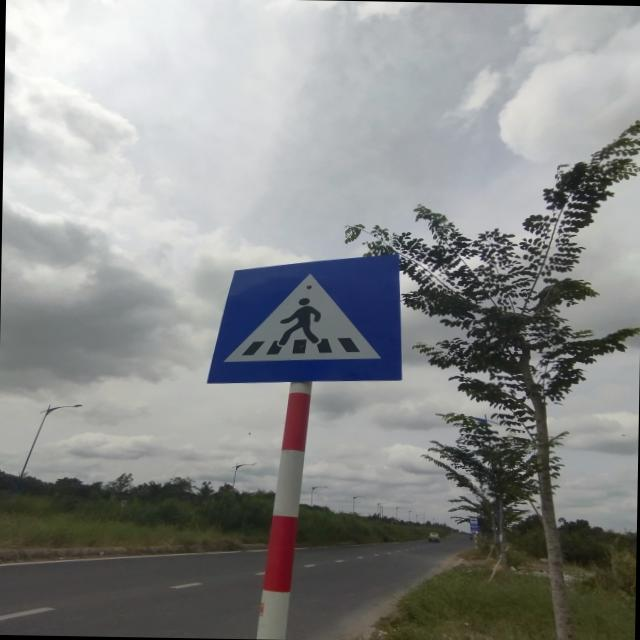Giao_Nhau_Duong_Uu_Tien: (208, 250, 402, 382)
